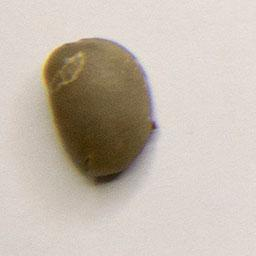premium: (41, 33, 162, 187)
